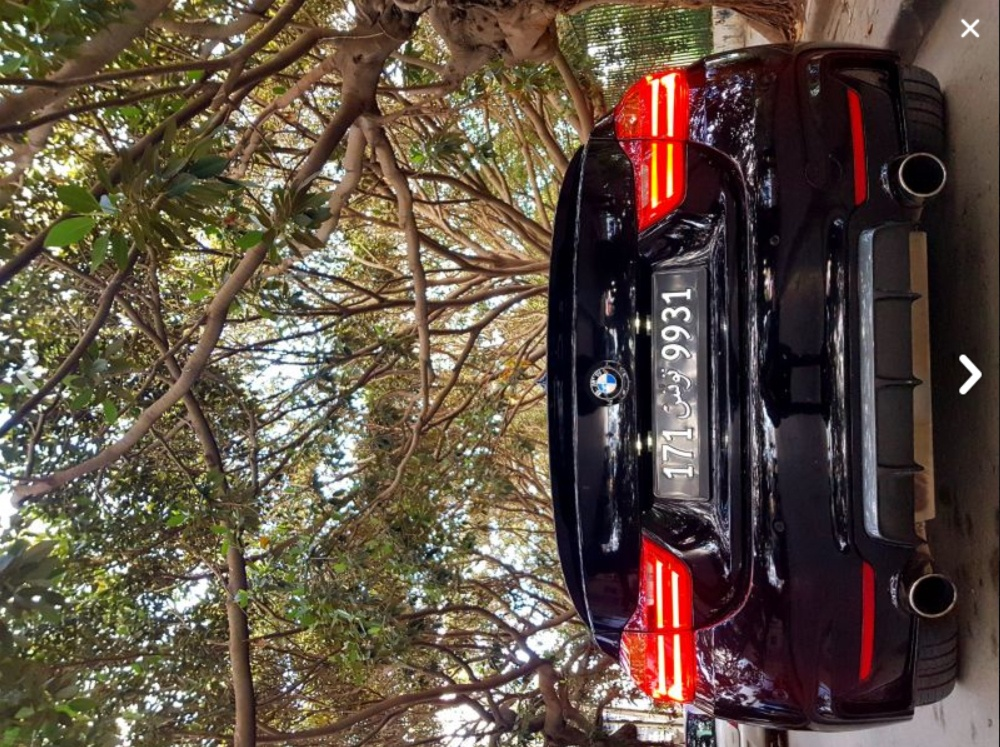LP: (645, 263, 722, 513)
